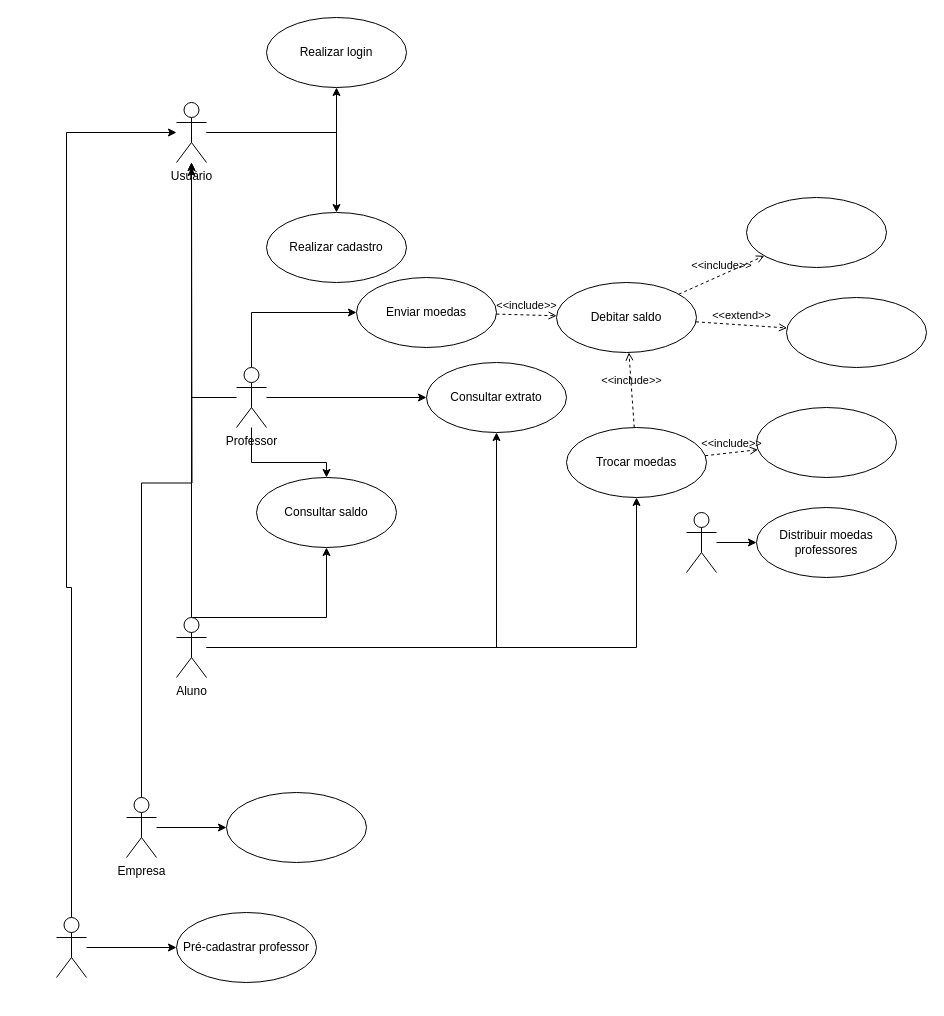
Some shapes in this 944 by 1016 pixel diagram are drawn without their labels. The shapes that lost their labels are listed below. From the top down, each one's centre as x and y in pixels, then its label:
point (816, 232): Somar carteira do aluno
point (856, 332): Notificar aluno
point (826, 442): Enviar email com cupom
point (701, 542): Sistema de gerenciamento de conta
point (296, 827): Cadastrar vantagem
point (71, 947): Instituição de ensino
